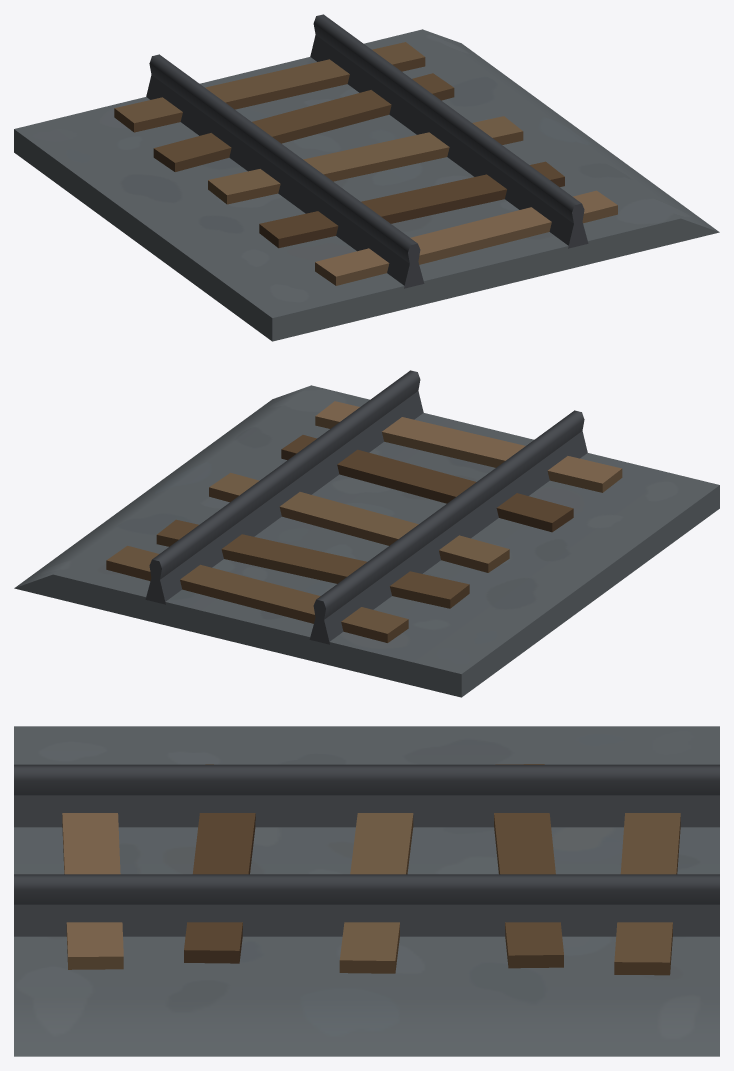
File: Railroad_A01.fbx
3 renders of one model, top to bottom at view 1: azimuth 30°, elevation 25°; view 2: azimuth 150°, elevation 25°; view 3: azimuth 270°, elevation 25°, orthographic. The views are drawn at different scales.
Visible parts, largest first — view 1: Railroad_A01; view 2: Railroad_A01; view 3: Railroad_A01.
Boxes of the visible parts, x1,y1,x2,y2 form: Railroad_A01: (14,14,719,341); Railroad_A01: (14,370,719,697); Railroad_A01: (14,726,719,1056).
Size of the model in its own units: 400 by 53.47 by 400.
Materials: 1 (1 with a texture image).
